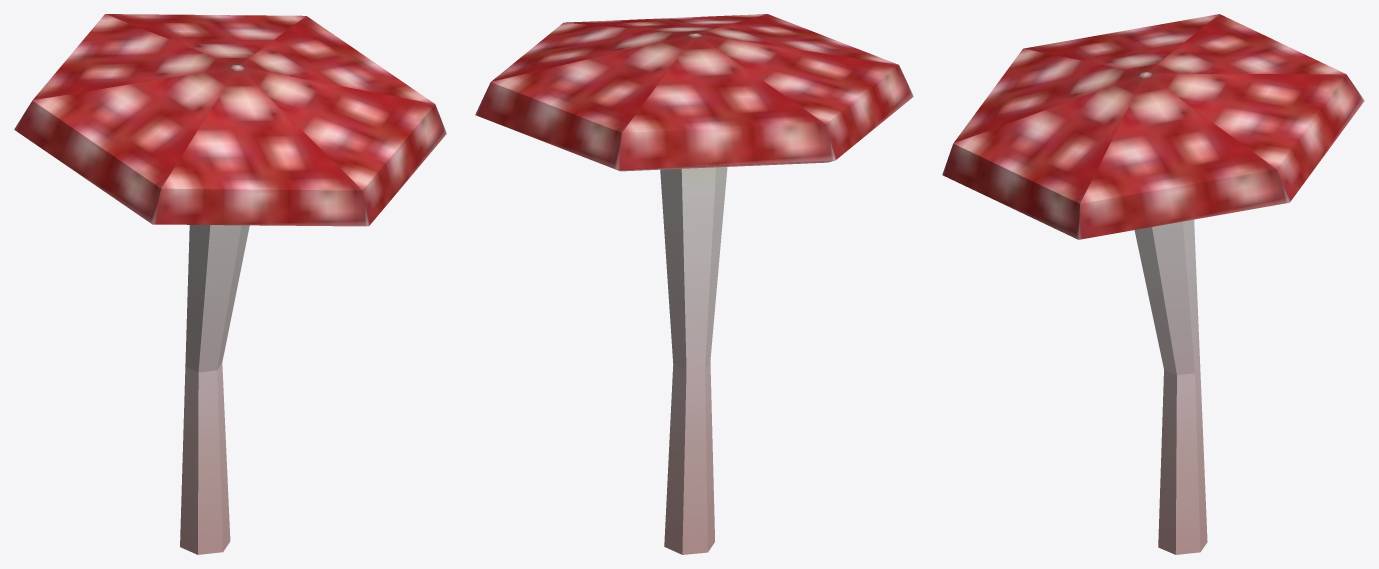
The model's file is pm-colony-mushroom.glb.
The picture shows the model from 3 angles, left to right: view 1: azimuth 30°, elevation 25°; view 2: azimuth 150°, elevation 25°; view 3: azimuth 270°, elevation 25°; orthographic projection. The views are drawn at different scales.
Visible parts, largest first — view 1: Colony_Mushroom_Art; view 2: Colony_Mushroom_Art; view 3: Colony_Mushroom_Art.
Part boxes in pixels (x1,y1,x2,y2): Colony_Mushroom_Art: (14, 14, 446, 554); Colony_Mushroom_Art: (475, 14, 913, 554); Colony_Mushroom_Art: (942, 14, 1364, 554).
Bounding box in the file's own units: 0.7122 × 0.9335 × 0.748.
1 material, 1 textured.
